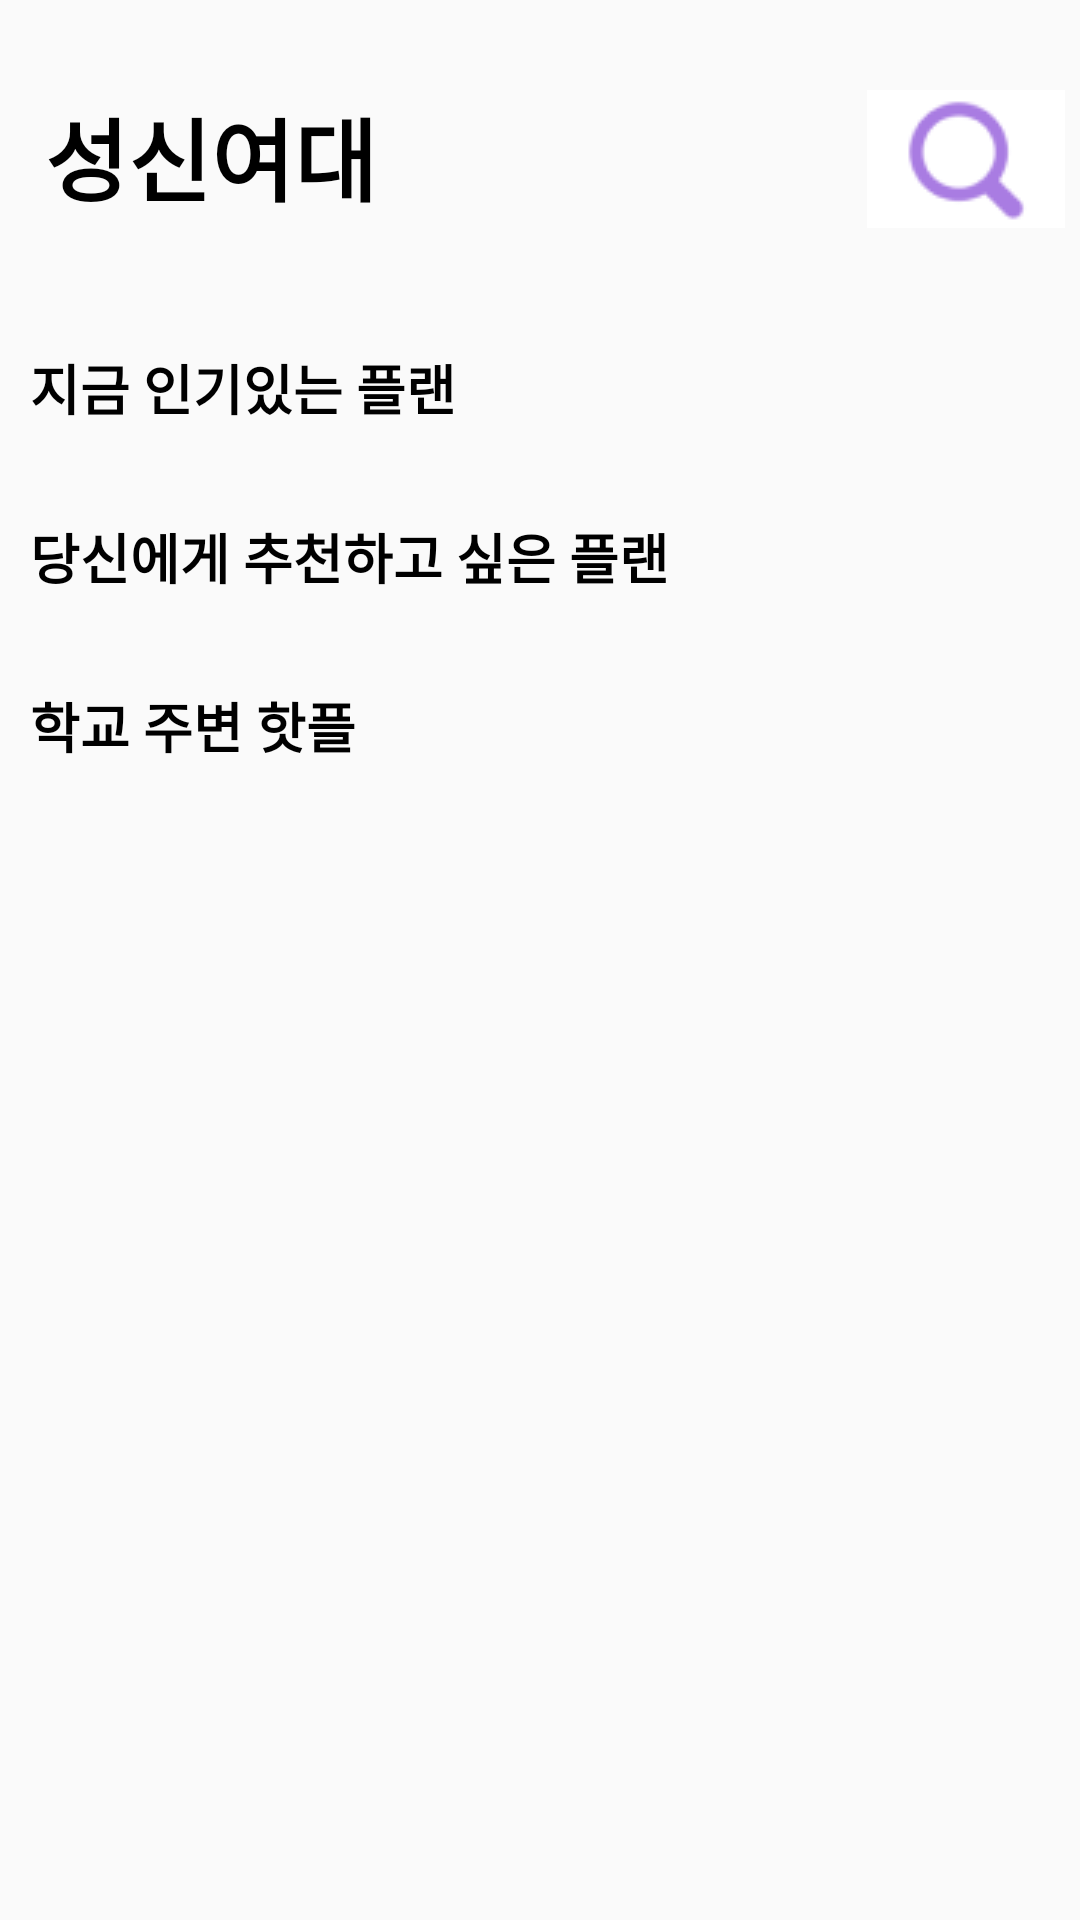

Where icons sit on this 1080w x 1920h app screen, as (left=x1, top=y1, right=x2, bottom=y2):
search: (left=908, top=101, right=1024, bottom=219)
